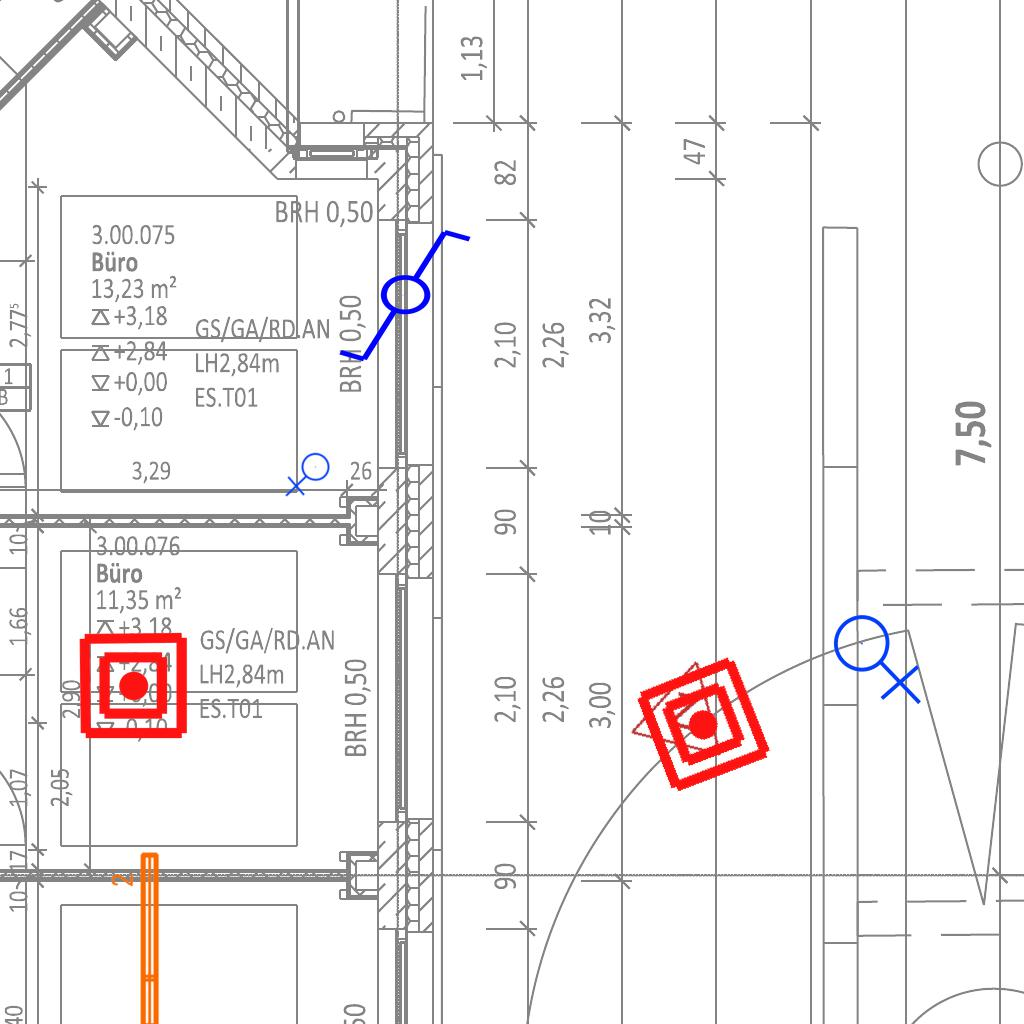Ambulanz_Pendelleuchte_LED: (109, 848, 165, 1024)
Elektroanschluss_allgemein_230V_Geraeteanschlussdose_230V: (832, 606, 926, 705), (285, 452, 334, 499)
NAM-Nichtautomatischer_Melder: (630, 651, 777, 798), (77, 629, 190, 742)
Wechselschalter: (335, 225, 492, 369)
Zimmersignalleuchte: (625, 642, 745, 764)
